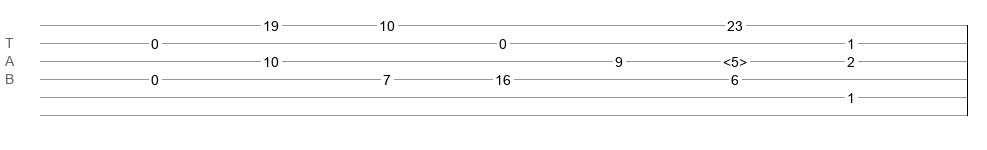0: (151, 36, 159, 46), (151, 72, 159, 82), (499, 36, 507, 46)
1: (847, 90, 855, 100), (847, 36, 855, 46)
10: (263, 54, 279, 64), (379, 18, 395, 28)
16: (495, 72, 511, 82)
19: (263, 18, 279, 28)
2: (847, 54, 855, 64)
23: (727, 18, 743, 28)
6: (731, 72, 739, 82)
7: (383, 72, 391, 82)
9: (615, 54, 623, 64)
harmonic: (723, 54, 747, 64)
